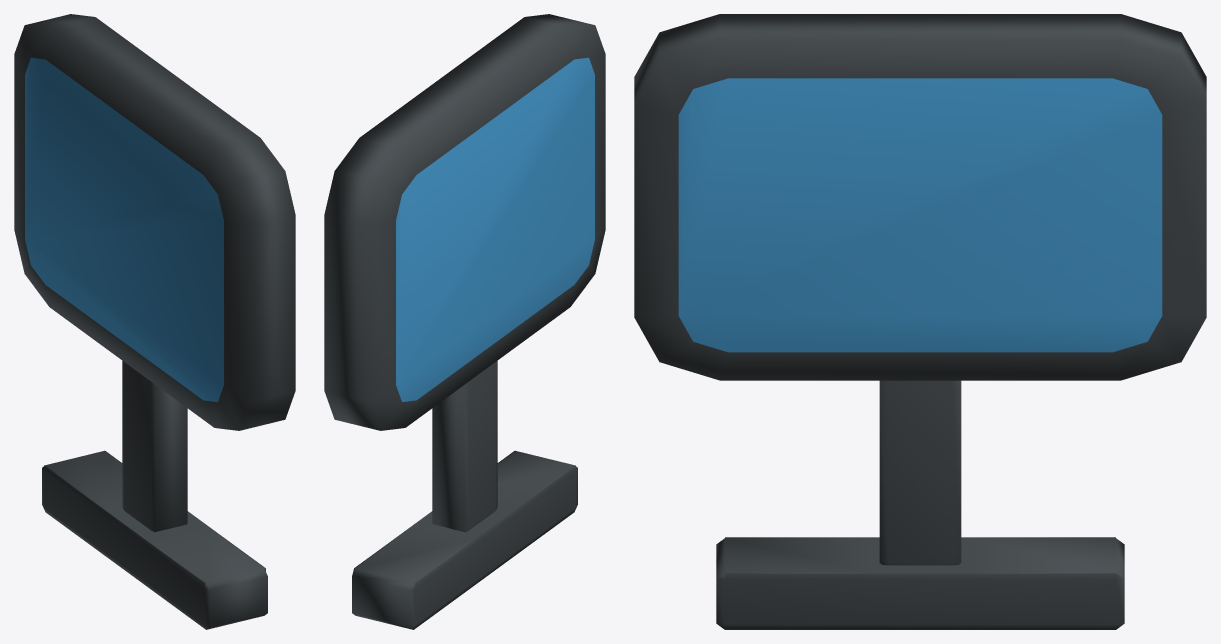
Rendered from Tabela_Engel.fbx.
3 views of the same model, side by side, from view 1: azimuth 30°, elevation 25°; view 2: azimuth 150°, elevation 25°; view 3: azimuth 270°, elevation 25° (orthographic). The views are drawn at different scales.
Visible parts, largest first — view 1: tabela engel; view 2: tabela engel; view 3: tabela engel.
Boxes of the visible parts, box(x1,y1,x2,y2) form: tabela engel: box(14, 14, 295, 629); tabela engel: box(324, 14, 605, 629); tabela engel: box(634, 14, 1206, 629).
Size of the model in its own units: 30.99 by 233 by 207.
